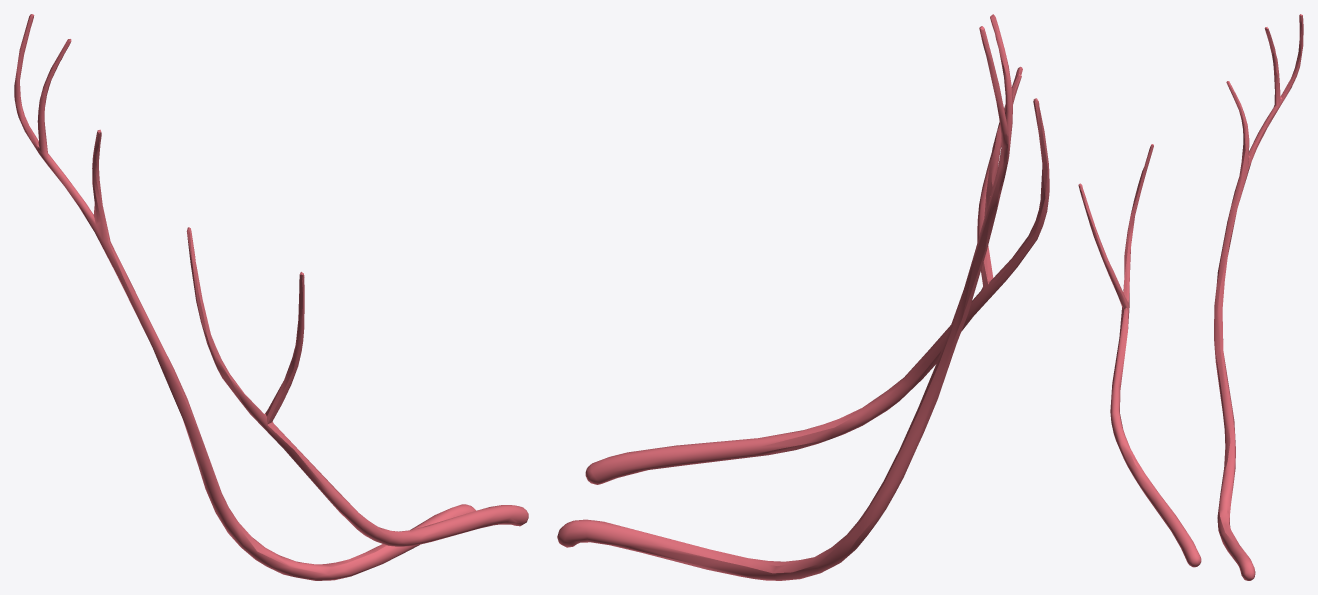
Rendered from fma79532_fj5170.glb.
3 renders of one model, left to right at view 1: azimuth 30°, elevation 25°; view 2: azimuth 150°, elevation 25°; view 3: azimuth 270°, elevation 25°, orthographic. The views are drawn at different scales.
Parts seen in each view (by area): view 1: FMA79532_FJ5170; view 2: FMA79532_FJ5170; view 3: FMA79532_FJ5170.
Boxes of the visible parts, left/top/right/bottom form: FMA79532_FJ5170: left=14, top=14, right=528, bottom=580; FMA79532_FJ5170: left=557, top=14, right=1049, bottom=580; FMA79532_FJ5170: left=1078, top=14, right=1303, bottom=580.
Size of the model in its own units: 0.0487 by 0.0621 by 0.0297.
